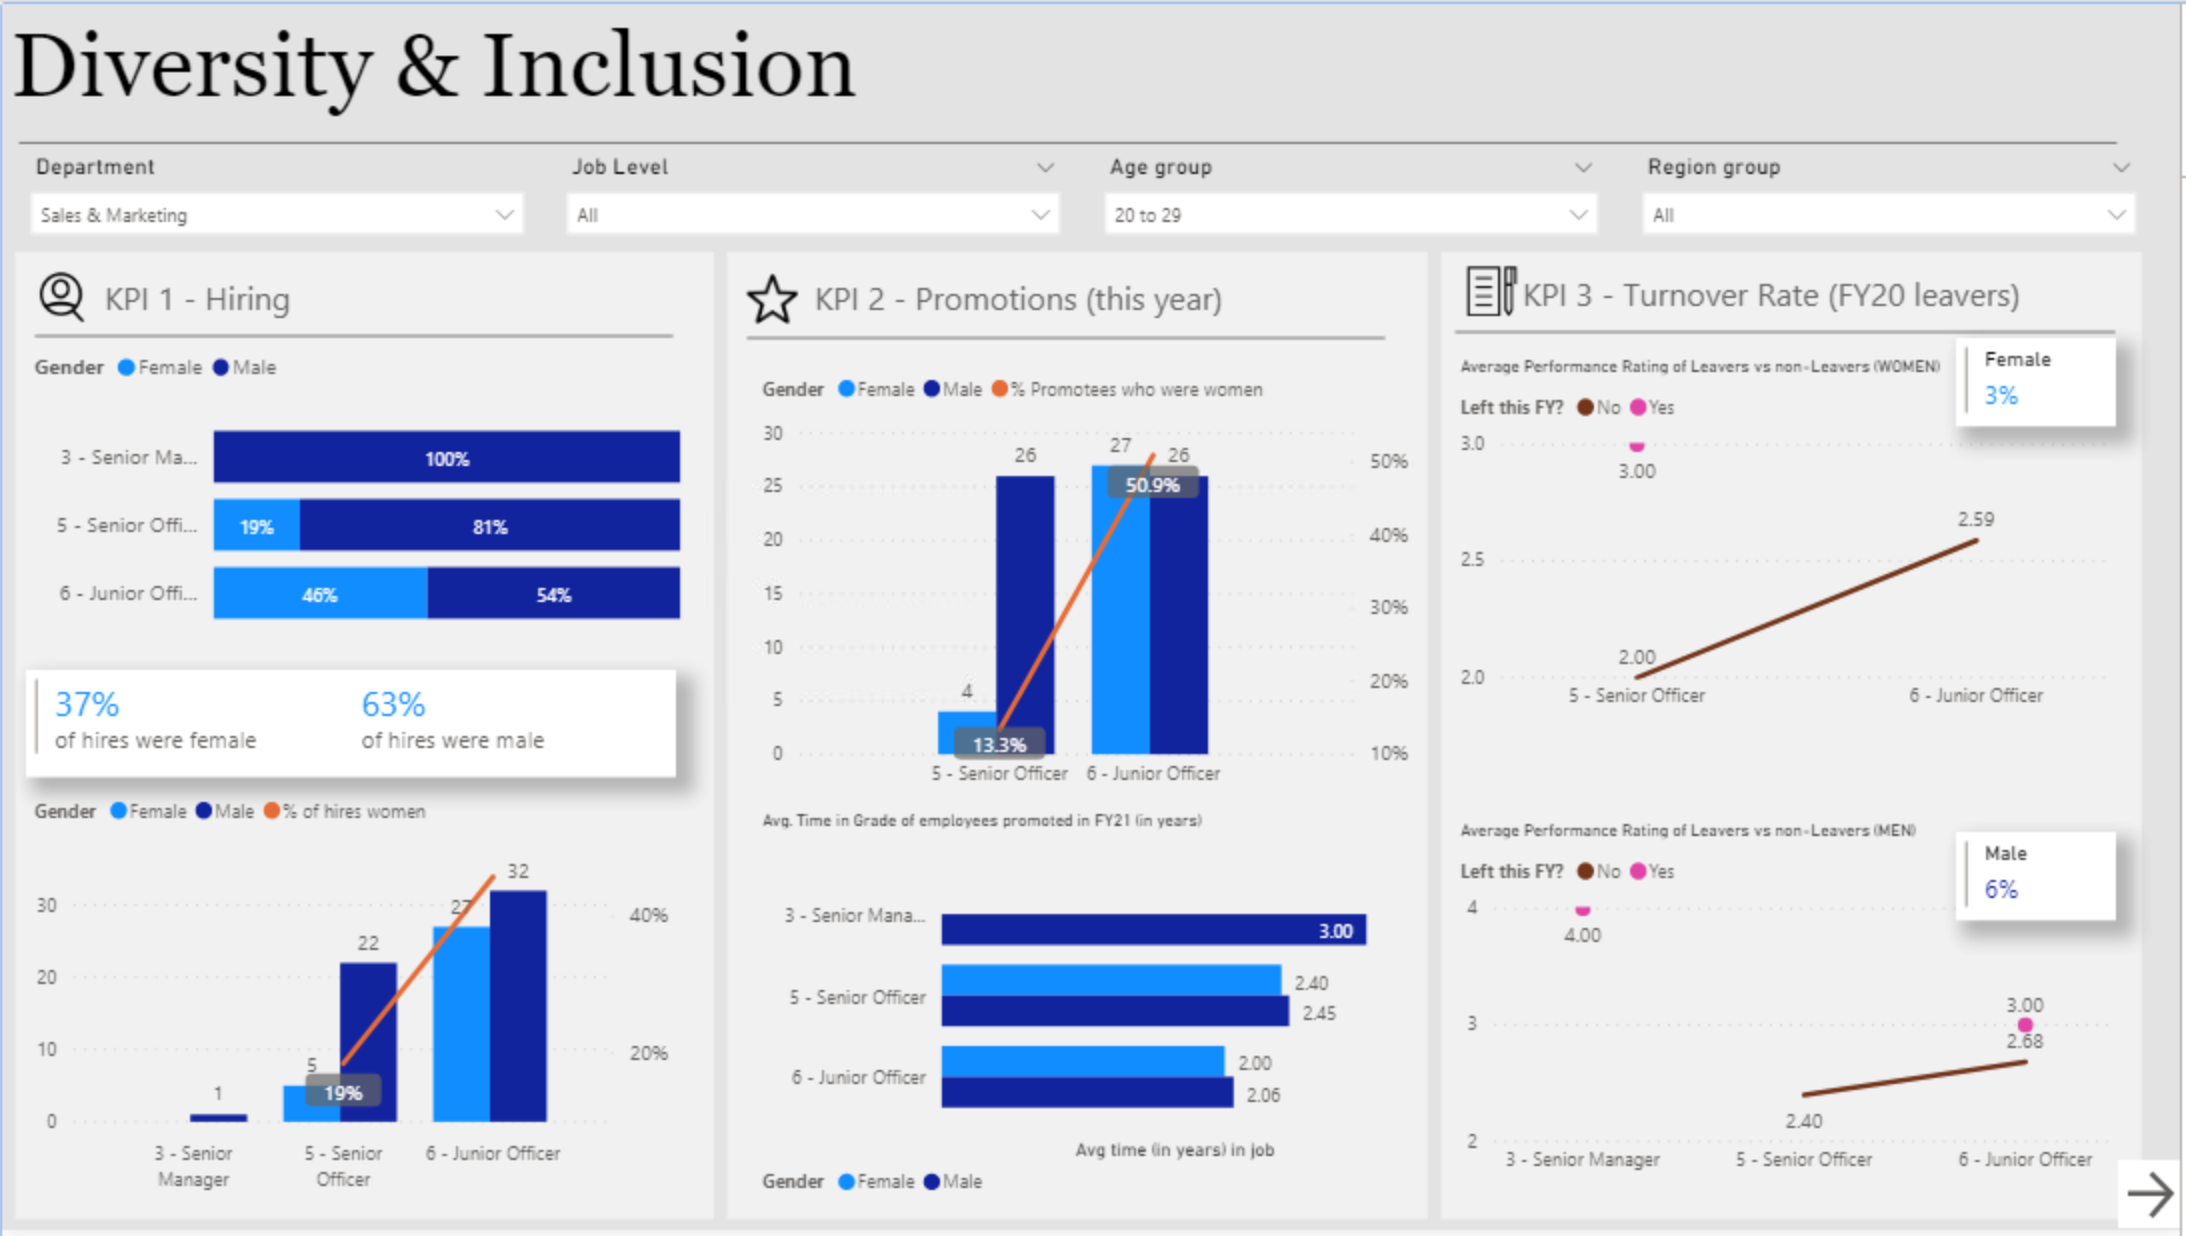

The dashboard page shown, as its layout file describes it:
{"tool":"powerbi","page":{"name":"HR Manager (1/2)","canvas":[1280,720],"ordinal":0},"visuals":[{"type":"textbox","box":[0,0,1261.9,80.1],"z":0},{"type":"basicShape","box":[0,60.8,1253,40.5],"z":1000},{"type":"basicShape","box":[3.9,139.9,418.6,579.7],"z":2000},{"type":"hundredPercentStackedBarChart","fields":{"Series":["HR Manager.Gender"],"Y":["CountNonNull(HR Manager.Employee ID)"],"Category":["HR Manager.Job Level after FY20 promotions"]},"box":[14.5,193.9,389.7,190],"z":3000},{"type":"multiRowCard","fields":{"Values":["HR Manager.% of hires women","HR Manager.% of hires men"]},"box":[13.6,391.4,382.3,63.5],"z":4000},{"type":"lineClusteredColumnComboChart","fields":{"Category":["HR Manager.Job Level after FY20 promotions"],"Series":["HR Manager.Gender"],"Y":["CountNonNull(HR Manager.Employee ID)"],"Y2":["HR Manager.% of hires women"]},"box":[14.5,455.3,382.9,250.8],"z":5000},{"type":"textbox","box":[55,155.3,315.4,35.7],"z":6000},{"type":"basicShape","box":[9.6,175.6,395.5,39.5],"z":7000},{"type":"basicShape","box":[422.5,139.9,419.6,579.7],"z":8000},{"type":"textbox","box":[473,155.7,315.4,35.7],"z":9000},{"type":"basicShape","box":[427.7,175.9,395.5,39.5],"z":10000},{"type":"image","box":[433.1,153.4,39.5,40.5],"z":11000},{"type":"lineClusteredColumnComboChart","fields":{"Y":["CountNonNull(HR Manager.Employee ID)"],"Series":["HR Manager.Gender"],"Y2":["HR Manager.% Promotees who were women"],"Category":["HR Manager.Job Level after FY21 promotions"]},"box":[441.8,207.4,389.7,263.3],"z":12000},{"type":"image","box":[15.4,153.4,39.5,38.6],"z":15000},{"type":"basicShape","box":[842.1,139.9,419.6,579.7],"z":16000},{"type":"basicShape","box":[843.4,173,408,39.5],"z":17000},{"type":"textbox","box":[888.5,152.5,315.4,35.7],"z":18000},{"type":"clusteredBarChart","title":"Avg. Time in Grade of employees promoted in FY21 (in years)","fields":{"Category":["HR Manager.Job Level after FY20 promotions"],"Series":["HR Manager.Gender"],"Y":["Avg(HR Manager.Time in Job Level @01.07.2020)"]},"box":[441.8,473.6,389.7,236.3],"z":19000},{"type":"lineChart","title":"Average Performance Rating of Leavers vs non-Leavers (WOMEN)","fields":{"Category":["HR Manager.Job Level after FY20 promotions"],"Y":["Avg(HR Manager.FY19 Performance Rating)"],"Series":["HR Manager.FY20 leaver?"]},"box":[852.7,207.4,398.4,218],"z":20000},{"type":"lineChart","title":"Average Performance Rating of Leavers vs non-Leavers (MEN)","fields":{"Category":["HR Manager.Job Level after FY20 promotions"],"Y":["Avg(HR Manager.FY19 Performance Rating)"],"Series":["HR Manager.FY20 leaver?"]},"box":[852.7,479.4,398.4,218],"z":21000},{"type":"multiRowCard","fields":{"Values":["HR Manager.Gender","HR Manager.% Turnover"]},"box":[1148.8,195.8,93.6,52.1],"z":22000},{"type":"multiRowCard","fields":{"Values":["HR Manager.Gender","HR Manager.% Turnover"]},"box":[1148.8,487.1,93.6,52.1],"z":23000},{"type":"slicer","fields":{"Values":["HR Manager.Last Department in FY20"]},"box":[6.8,83.9,310,55.9],"z":24000},{"type":"slicer","fields":{"Values":["HR Manager.Job Level after FY20 promotions"]},"box":[322.5,83.9,310,55.9],"z":25000},{"type":"slicer","fields":{"Values":["HR Manager.Age group"]},"box":[638.2,83.9,310,55.9],"z":26000},{"type":"slicer","fields":{"Values":["HR Manager.Broad region group: nationality 1"]},"box":[954,83.9,310,55.9],"z":27000},{"type":"image","box":[852.7,149.5,47.3,38.6],"z":28000},{"type":"actionButton","box":[1243.1,679.1,36.9,40.2],"z":29000}]}

Visuals, with their boxes in screenshot pixels (x1, y1, x2, y2), scaled from the page's 1280x720 canvas onto the 2186x1236 screenshot:
textbox: (0, 0, 2155, 138)
basicShape: (0, 104, 2140, 174)
basicShape: (7, 240, 722, 1235)
hundredPercentStackedBarChart - HR Manager.Gender x CountNonNull(HR Manager.Employee ID): (25, 333, 690, 659)
multiRowCard - HR Manager.% of hires women x HR Manager.% of hires men: (23, 672, 676, 781)
lineClusteredColumnComboChart - HR Manager.Job Level after FY20 promotions x HR Manager.Gender: (25, 782, 679, 1212)
textbox: (94, 267, 633, 328)
basicShape: (16, 301, 692, 369)
basicShape: (722, 240, 1438, 1235)
textbox: (808, 267, 1346, 329)
basicShape: (730, 302, 1406, 370)
image: (740, 263, 807, 333)
lineClusteredColumnComboChart - CountNonNull(HR Manager.Employee ID) x HR Manager.Gender: (755, 356, 1420, 808)
image: (26, 263, 94, 330)
basicShape: (1438, 240, 2155, 1235)
basicShape: (1440, 297, 2137, 365)
textbox: (1517, 262, 2056, 323)
"Avg. Time in Grade of employees promoted in FY21 (in years)" clusteredBarChart: (755, 813, 1420, 1219)
"Average Performance Rating of Leavers vs non-Leavers (WOMEN)" lineChart: (1456, 356, 2137, 730)
"Average Performance Rating of Leavers vs non-Leavers (MEN)" lineChart: (1456, 823, 2137, 1197)
multiRowCard - HR Manager.Gender x HR Manager.% Turnover: (1962, 336, 2122, 426)
multiRowCard - HR Manager.Gender x HR Manager.% Turnover: (1962, 836, 2122, 926)
slicer - HR Manager.Last Department in FY20: (12, 144, 541, 240)
slicer - HR Manager.Job Level after FY20 promotions: (551, 144, 1080, 240)
slicer - HR Manager.Age group: (1090, 144, 1619, 240)
slicer - HR Manager.Broad region group: nationality 1: (1629, 144, 2159, 240)
image: (1456, 257, 1537, 323)
actionButton: (2123, 1166, 2185, 1235)
